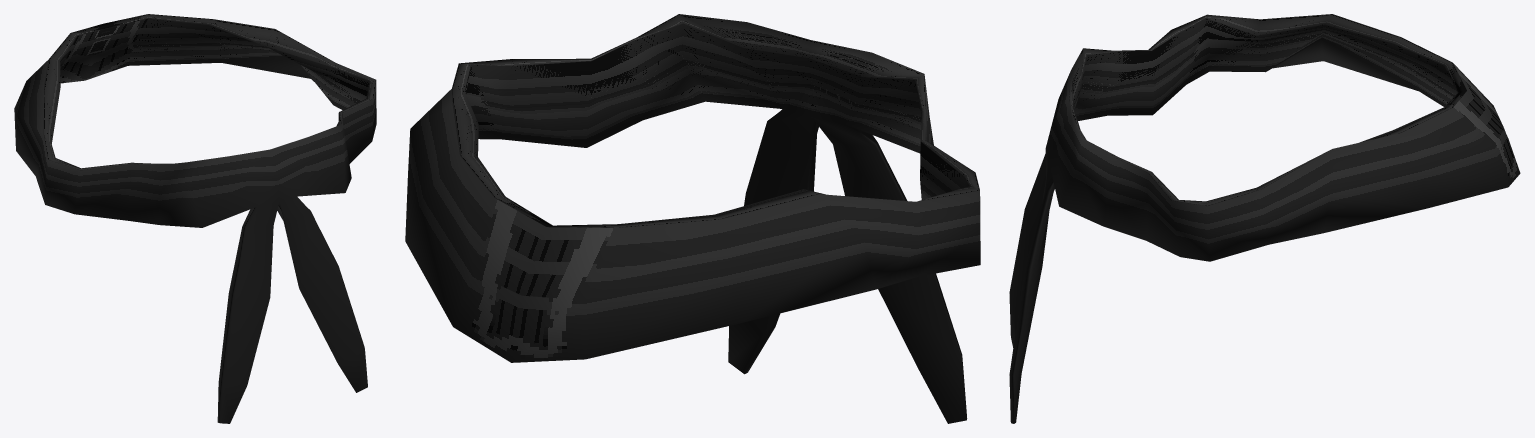
The model's file is Headrope.glb.
The picture shows the model from 3 angles, left to right: view 1: azimuth 30°, elevation 25°; view 2: azimuth 150°, elevation 25°; view 3: azimuth 270°, elevation 25°; orthographic projection. The views are drawn at different scales.
Parts seen in each view (by area): view 1: headrope; view 2: headrope; view 3: headrope.
Boxes of the visible parts, left/top/right/bottom form: headrope: left=14, top=14, right=376, bottom=423; headrope: left=405, top=14, right=980, bottom=423; headrope: left=1009, top=14, right=1520, bottom=423.
Bounding box in the file's own units: 1.43 × 1.04 × 1.59.
Materials: 1 (1 with a texture image).
